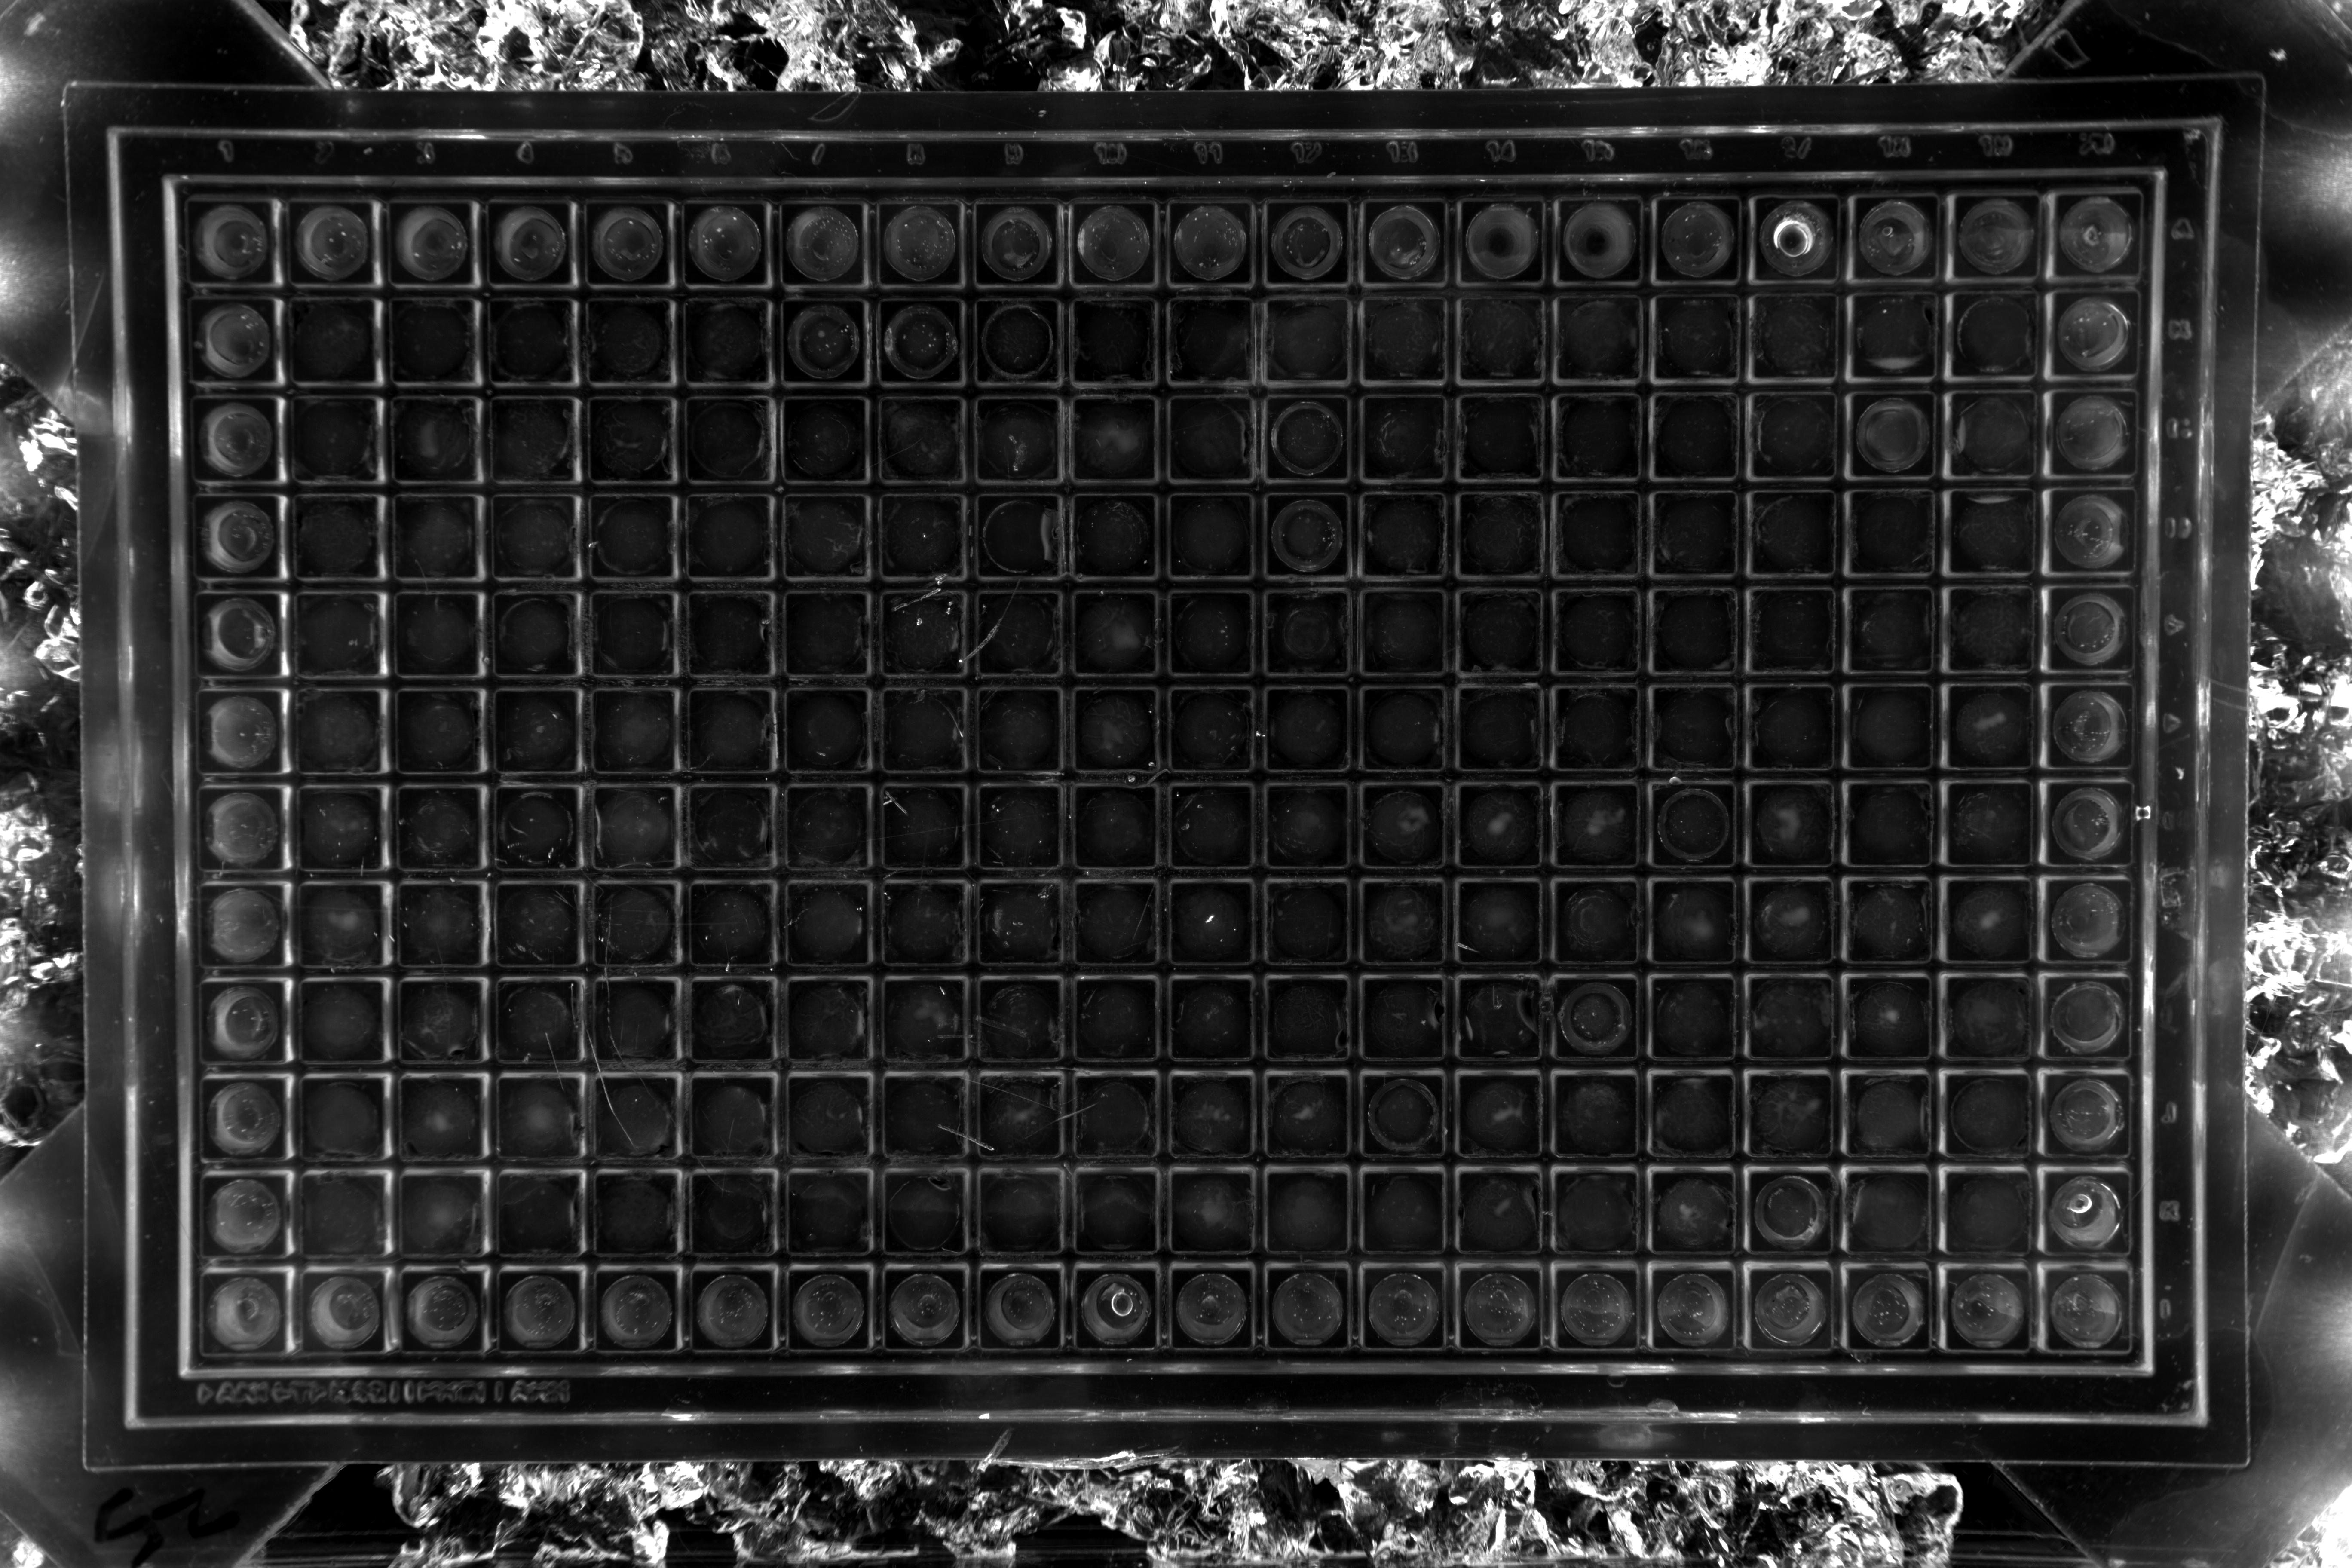WM_well: (492, 436, 581, 523), (1176, 1209, 1263, 1298), (2063, 128, 2152, 215), (194, 336, 282, 423), (294, 338, 381, 425), (303, 926, 390, 1013), (303, 1120, 390, 1207), (401, 926, 488, 1013), (401, 1216, 488, 1304), (782, 142, 870, 229), (789, 632, 877, 719), (887, 728, 975, 815), (887, 1115, 975, 1202), (887, 1211, 975, 1298), (980, 142, 1067, 229), (1176, 1017, 1263, 1104), (1176, 436, 1263, 523), (1274, 630, 1361, 717), (1274, 338, 1361, 425), (1370, 822, 1458, 910), (1470, 236, 1557, 324), (1564, 628, 1652, 716), (1760, 822, 1848, 910), (1864, 329, 1951, 416), (2060, 625, 2147, 712)
